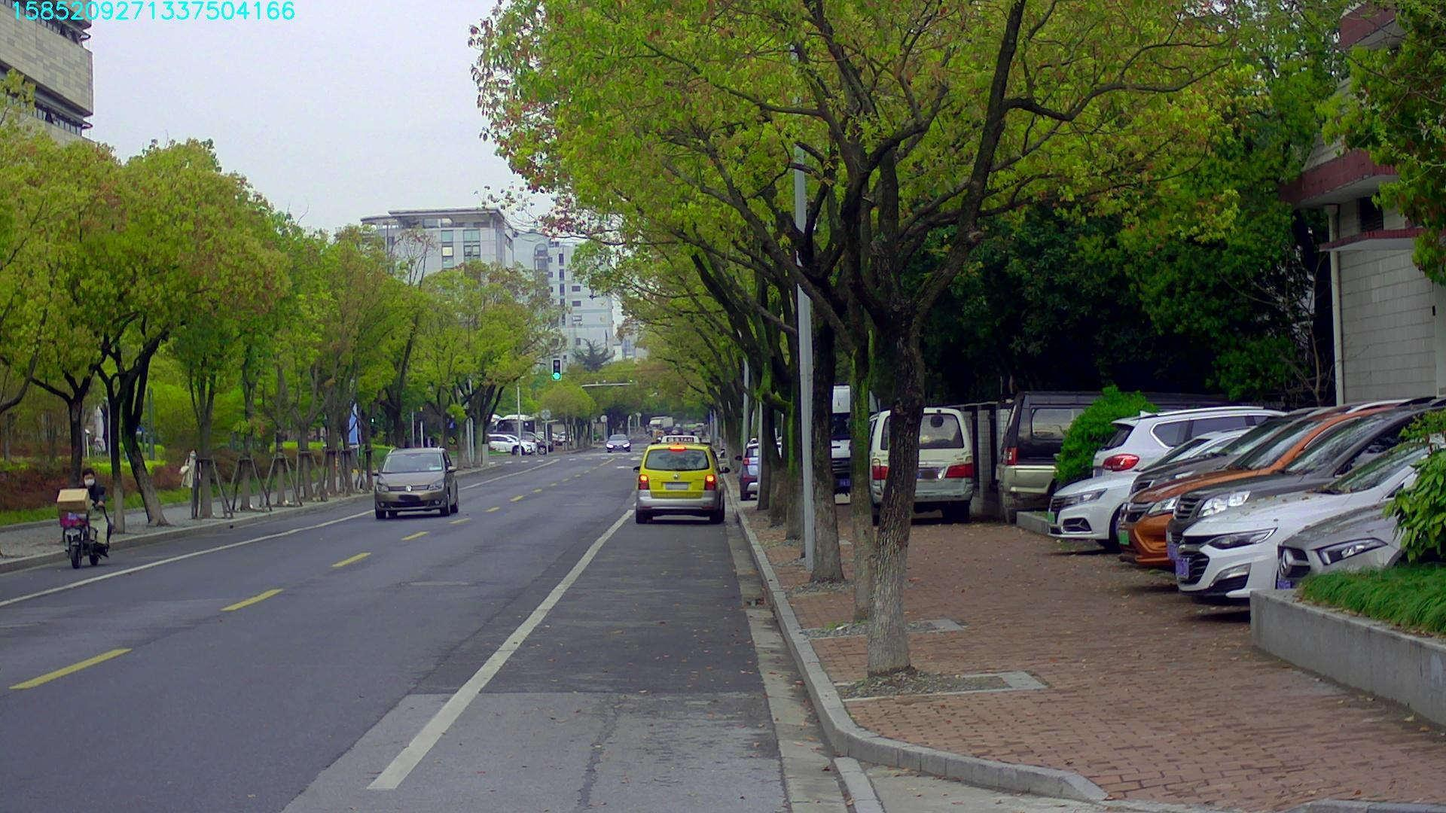green: (551, 358, 560, 379)
